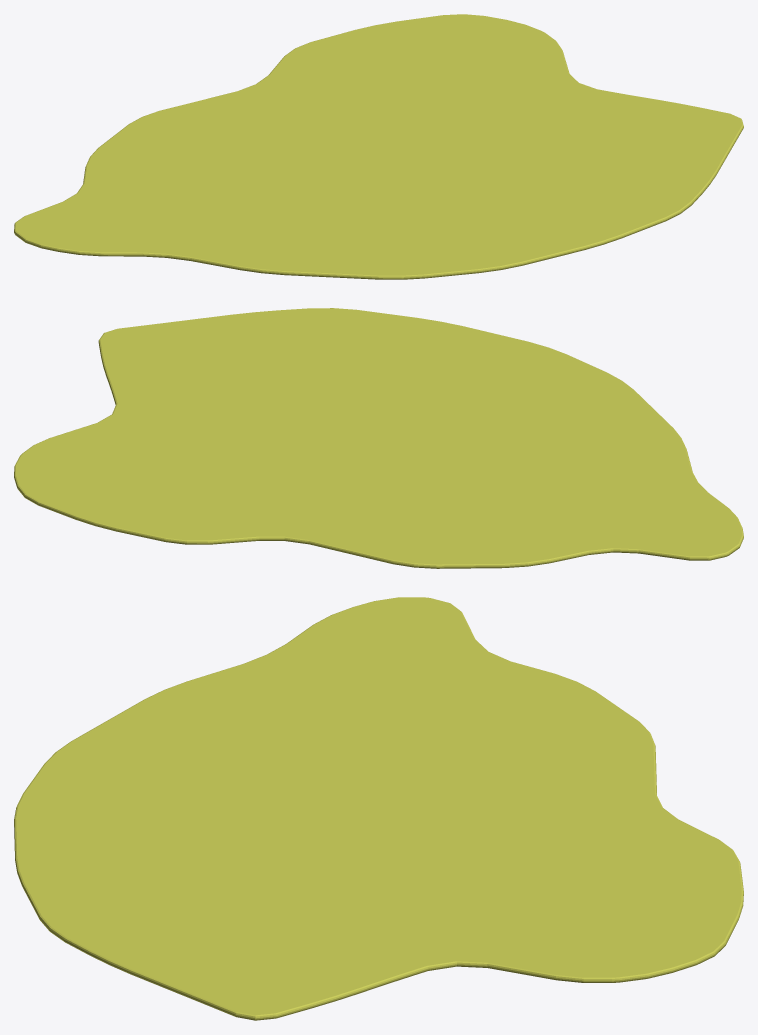
3 renders of one model, top to bottom at view 1: azimuth 30°, elevation 25°; view 2: azimuth 150°, elevation 25°; view 3: azimuth 270°, elevation 25°, orthographic. The views are drawn at different scales.
Parts seen in each view (by area): view 1: b.002; view 2: b.002; view 3: b.002.
Part boxes in pixels (x1,y1,x2,y2): b.002: [14, 14, 743, 279]; b.002: [14, 308, 743, 568]; b.002: [14, 597, 743, 1020].
Bounding box in the file's own units: 16.3 × 0.0945 × 11.98.
